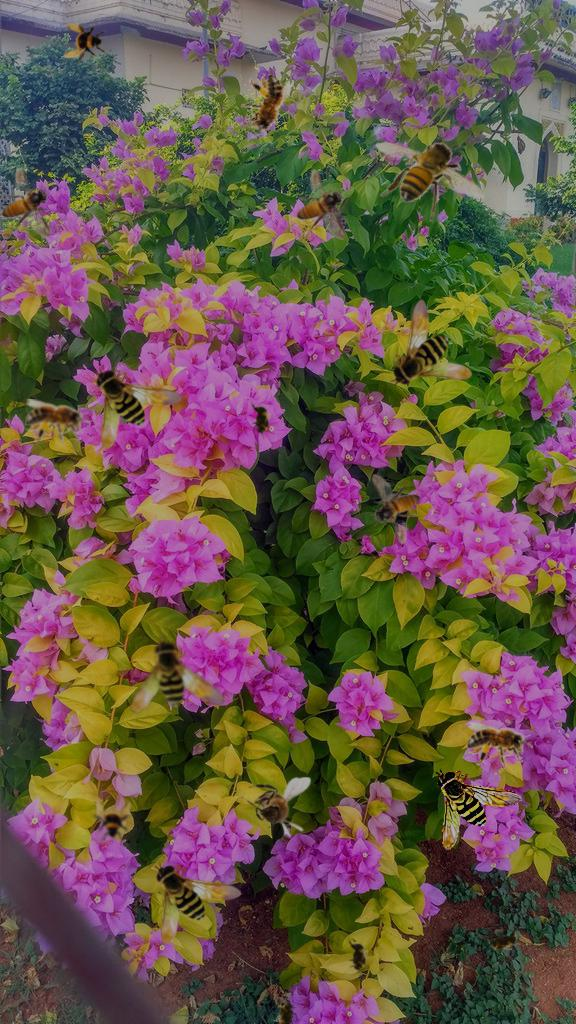Bee: (121, 633, 239, 747), (375, 128, 486, 222), (435, 768, 523, 850), (94, 367, 182, 449), (154, 862, 242, 944), (390, 299, 472, 387), (233, 68, 295, 145), (241, 777, 311, 838), (296, 169, 346, 240), (1, 167, 51, 238), (371, 474, 421, 545), (467, 722, 533, 767), (25, 399, 91, 444), (63, 21, 107, 65), (89, 799, 133, 843), (481, 926, 525, 956), (272, 994, 302, 1024), (347, 937, 369, 977), (250, 400, 272, 440)
